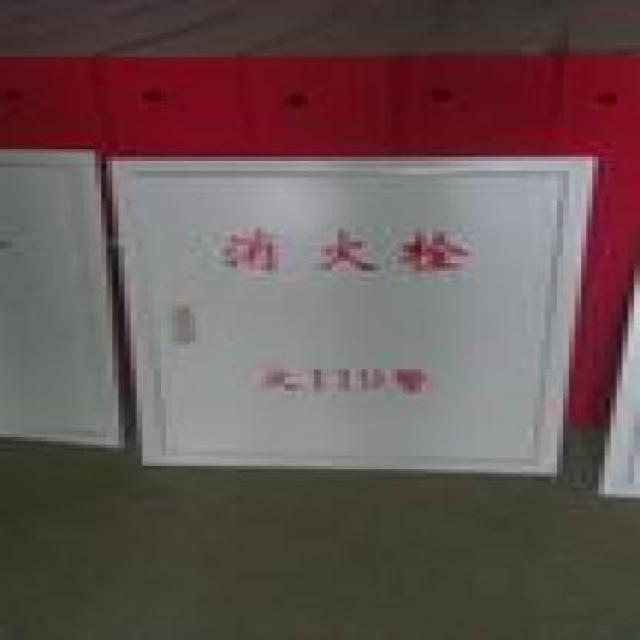firehydrant: (106, 149, 603, 481), (0, 144, 132, 456)
